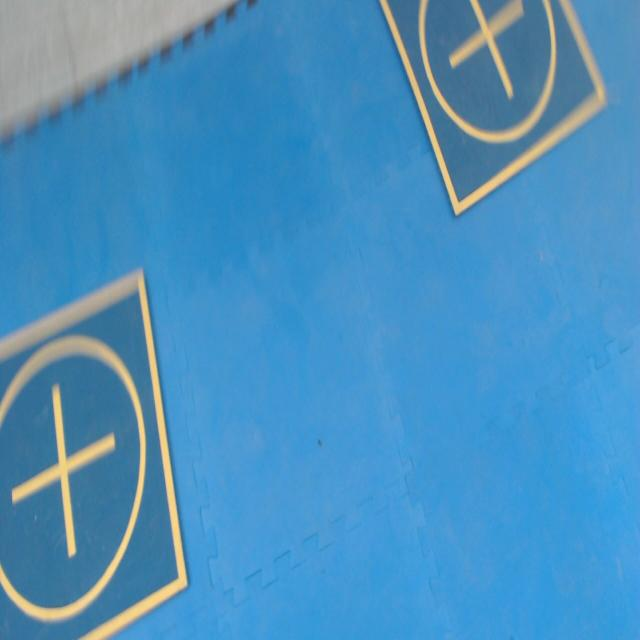base_pouso: (0, 266, 190, 639), (379, 0, 611, 224)
